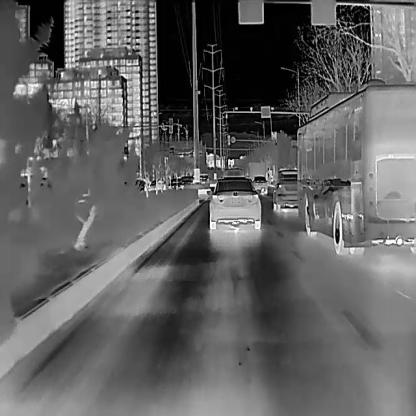bus: (296, 77, 415, 255)
car: (209, 177, 260, 228), (272, 168, 296, 209), (252, 175, 267, 193), (166, 178, 182, 188), (135, 178, 146, 192), (180, 174, 194, 184)
truck: (246, 162, 266, 176)
